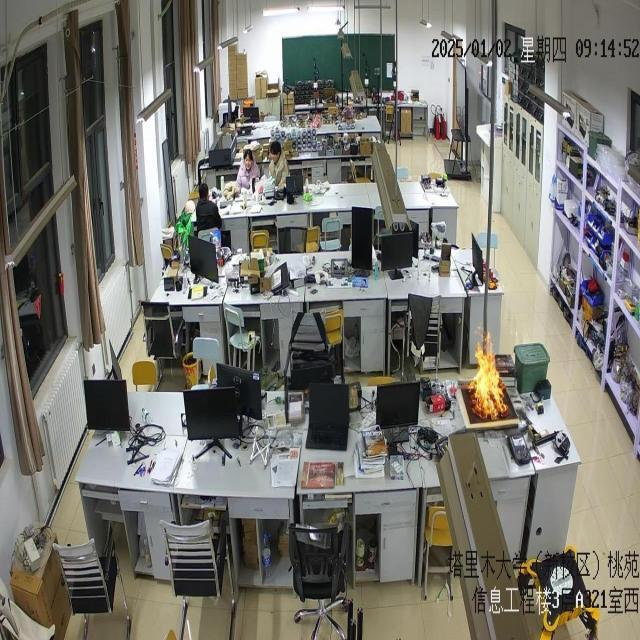smoke: (469, 326, 508, 421)
